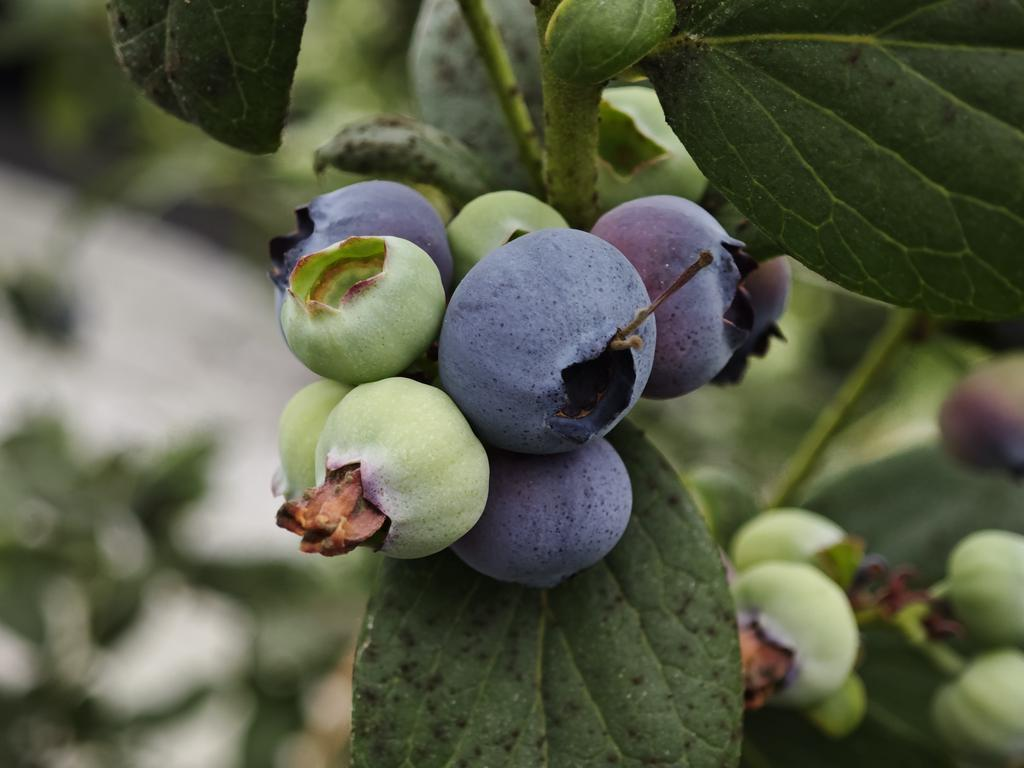RipeBlueBerry: (437, 224, 661, 458)
UnripeBlueBerry: (304, 373, 495, 565)
